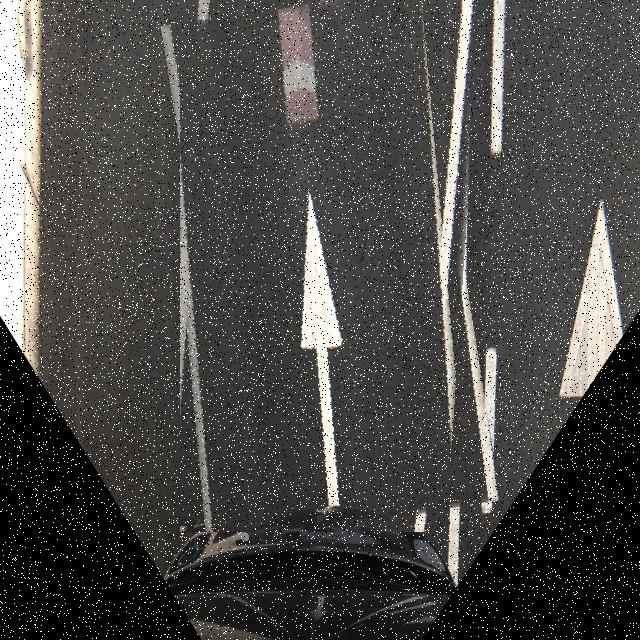forward: (180, 0, 481, 532)
